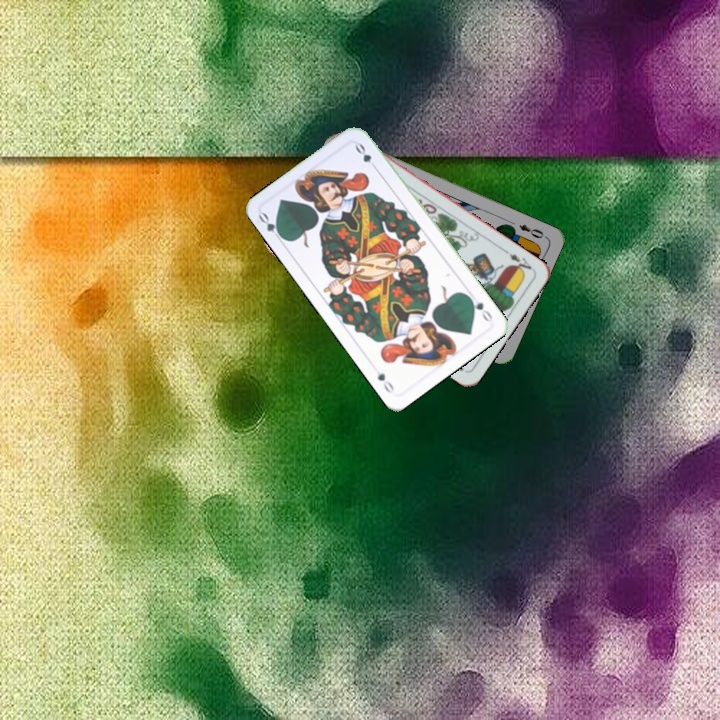EA: (500, 246, 534, 276)
EO: (515, 220, 546, 241)
GO: (254, 208, 287, 245), (464, 292, 495, 324)
